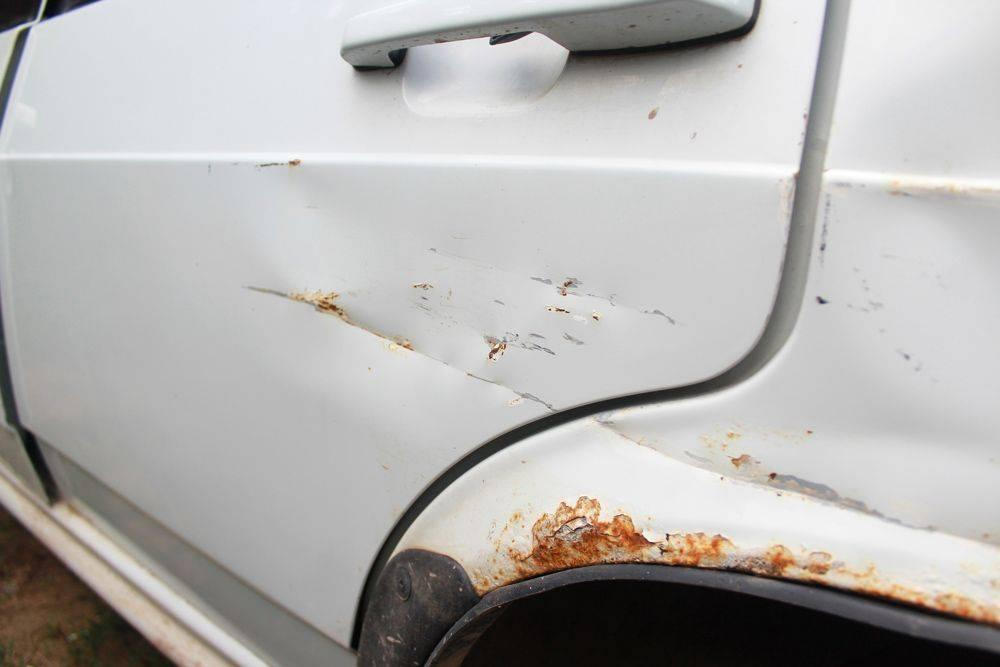corrosion: (452, 498, 996, 641), (704, 429, 779, 482), (287, 279, 355, 326), (481, 337, 520, 367)
